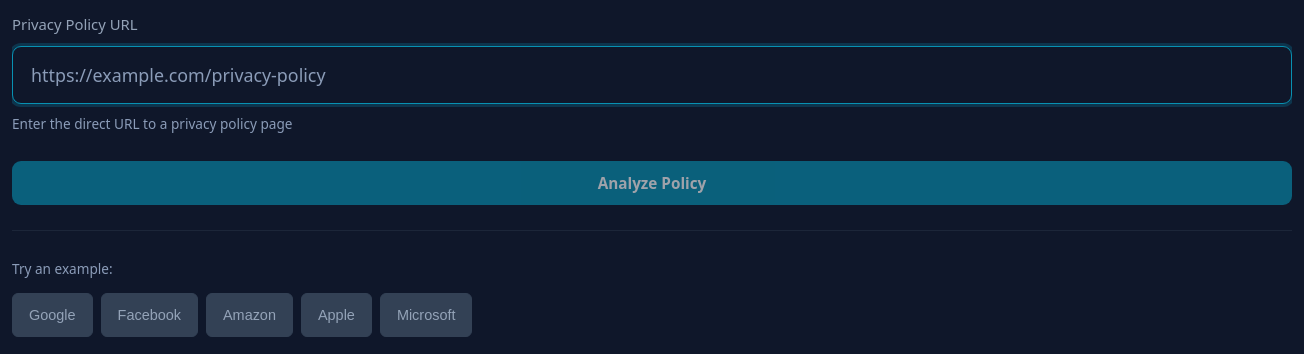
Test: URLInput › example buttons › should populate Amazon example URL
This screenshot has width=1304, height=354.
Click the button "Amazon" at (250, 315), box left=206, top=293, right=293, bottom=337
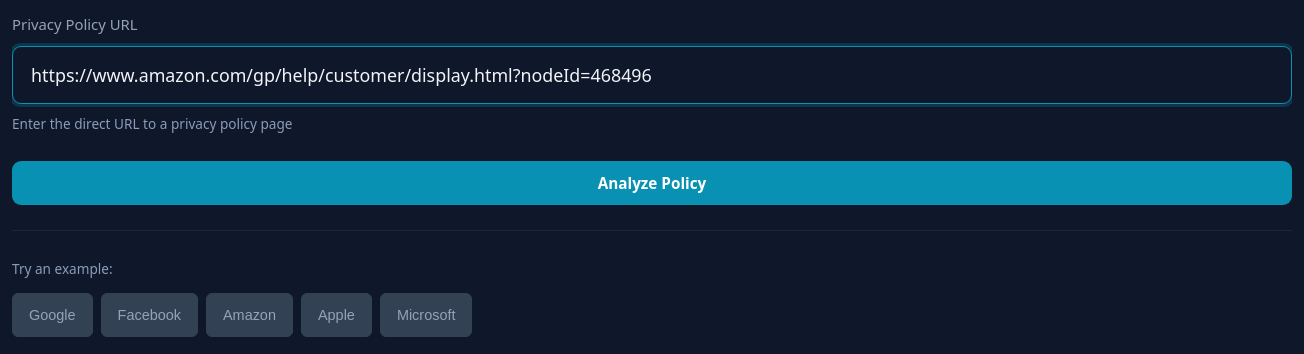
Result: the field labelled "Privacy Policy URL" holds "https://www.amazon.com/gp/help/customer/display.html?nodeId=468496" at left=12, top=46, right=1292, bottom=104
